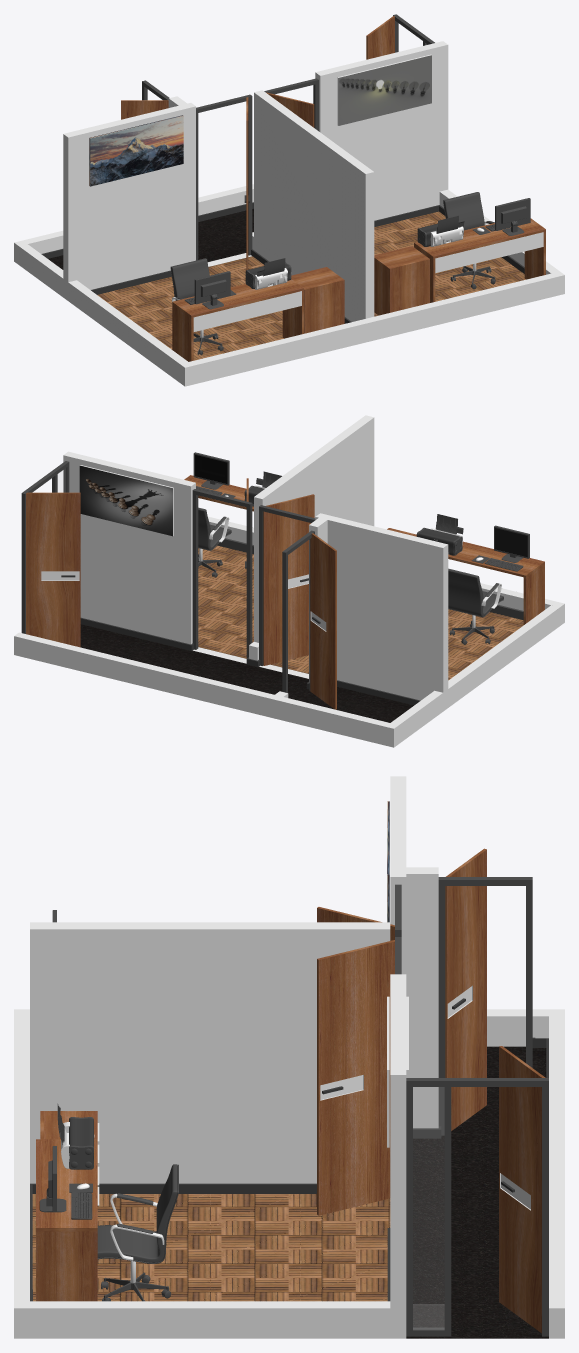
The model's file is cabin.glb.
3 renders of one model, top to bottom at view 1: azimuth 30°, elevation 25°; view 2: azimuth 150°, elevation 25°; view 3: azimuth 270°, elevation 25°, orthographic. The views are drawn at different scales.
Parts seen in each view (by area): view 1: Wall 009_PVA Black_0.002_433, Wall 008_PVA Black_0.001_428, Wall 004_PVA Black_0.001_415, Plane006_Imagem Carpete Azul Marinho_0_295, Box323527_Material #1893134430_0_99, Box323526_Material #189313443023_0_96, Wall 022_PVA White_0_459, Plane002_Imagem Carpete Azul Marinho_0_289, Wall 019_PVA White_0_448, Plane004_Imagem Carpete Azul Marinho2_0_291, Wall 021_PVA White_0_456, Box323528_Piso Madeira_0_182 (+35 smaller); view 2: Wall 008_PVA Black_0.001_428, Wall 004_PVA Black_0.001_415, Box323518_Piso Madeira_0_80, Wall 009_PVA Black_0.002_433, Plane004_Imagem Carpete Azul Marinho2_0_291, Box323510_Piso Madeira_0_62, Plane002_Imagem Carpete Azul Marinho_0_289, Wall 018_PVA White_0_444, Box323525_Material #18934513443023_0_93, Box323514_Piso Madeira_0_71, Plane006_Imagem Carpete Azul Marinho_0_295, Wall 007_PVA White_0_424 (+25 smaller); view 3: Wall 009_PVA Black_0.002_433, Plane002_Imagem Carpete Azul Marinho_0_289, Plane004_Imagem Carpete Azul Marinho2_0_291, Box007_Piso Madeira_0_36, Wall 020_PVA White_0_452, Box323518_Piso Madeira_0_80, Box323514_Piso Madeira_0_71, Box002_Vidro Main_0_28, Wall 005_PVA Black_0.001_419, Wall 004_PVA Black_0.001_415, Wall 009_PVA White_0_434, Box323483_Piso Madeira_0_49 (+18 smaller).
Part boxes in pixels (x1,y1,x2,y2): Wall 009_PVA Black_0.002_433: (254, 90, 374, 318); Wall 008_PVA Black_0.001_428: (63, 105, 183, 282); Wall 004_PVA Black_0.001_415: (315, 41, 448, 207); Plane006_Imagem Carpete Azul Marinho_0_295: (97, 256, 283, 360); Box323527_Material #1893134430_0_99: (89, 115, 183, 186); Box323526_Material #189313443023_0_96: (338, 55, 431, 125); Wall 022_PVA White_0_459: (180, 320, 379, 386); Plane002_Imagem Carpete Azul Marinho_0_289: (374, 211, 525, 316); Wall 019_PVA White_0_448: (379, 275, 564, 338); Plane004_Imagem Carpete Azul Marinho2_0_291: (48, 208, 253, 269); Wall 021_PVA White_0_456: (68, 282, 179, 382); Box323528_Piso Madeira_0_182: (388, 258, 429, 312); Wall 008_PVA Black_0.001_428: (327, 516, 448, 692); Wall 004_PVA Black_0.001_415: (63, 451, 195, 630); Box323518_Piso Madeira_0_80: (26, 492, 80, 647); Wall 009_PVA Black_0.002_433: (254, 415, 374, 642); Plane004_Imagem Carpete Azul Marinho2_0_291: (80, 624, 413, 722); Box323510_Piso Madeira_0_62: (263, 494, 314, 665); Plane002_Imagem Carpete Azul Marinho_0_289: (198, 545, 253, 658); Wall 018_PVA White_0_444: (14, 636, 269, 717); Box323525_Material #18934513443023_0_93: (79, 465, 172, 536); Box323514_Piso Madeira_0_71: (310, 533, 336, 709); Plane006_Imagem Carpete Azul Marinho_0_295: (271, 609, 523, 680); Wall 007_PVA White_0_424: (278, 700, 398, 747); Wall 009_PVA Black_0.002_433: (30, 922, 390, 1162); Plane002_Imagem Carpete Azul Marinho_0_289: (32, 1194, 390, 1301); Plane004_Imagem Carpete Azul Marinho2_0_291: (406, 1046, 548, 1338); Box007_Piso Madeira_0_36: (317, 940, 394, 1215); Wall 020_PVA White_0_452: (30, 1308, 390, 1338); Box323518_Piso Madeira_0_80: (499, 1046, 545, 1333); Box323514_Piso Madeira_0_71: (445, 848, 486, 1130); Box002_Vidro Main_0_28: (413, 1087, 443, 1327); Wall 005_PVA Black_0.001_419: (390, 867, 438, 1107); Wall 004_PVA Black_0.001_415: (390, 974, 406, 1308); Wall 009_PVA White_0_434: (30, 1162, 316, 1183); Box323483_Piso Madeira_0_49: (36, 1231, 97, 1301).
Size of what is drawn, in the model's own units: 207 by 85.27 by 161.
Materials: 19 (6 with a texture image).
